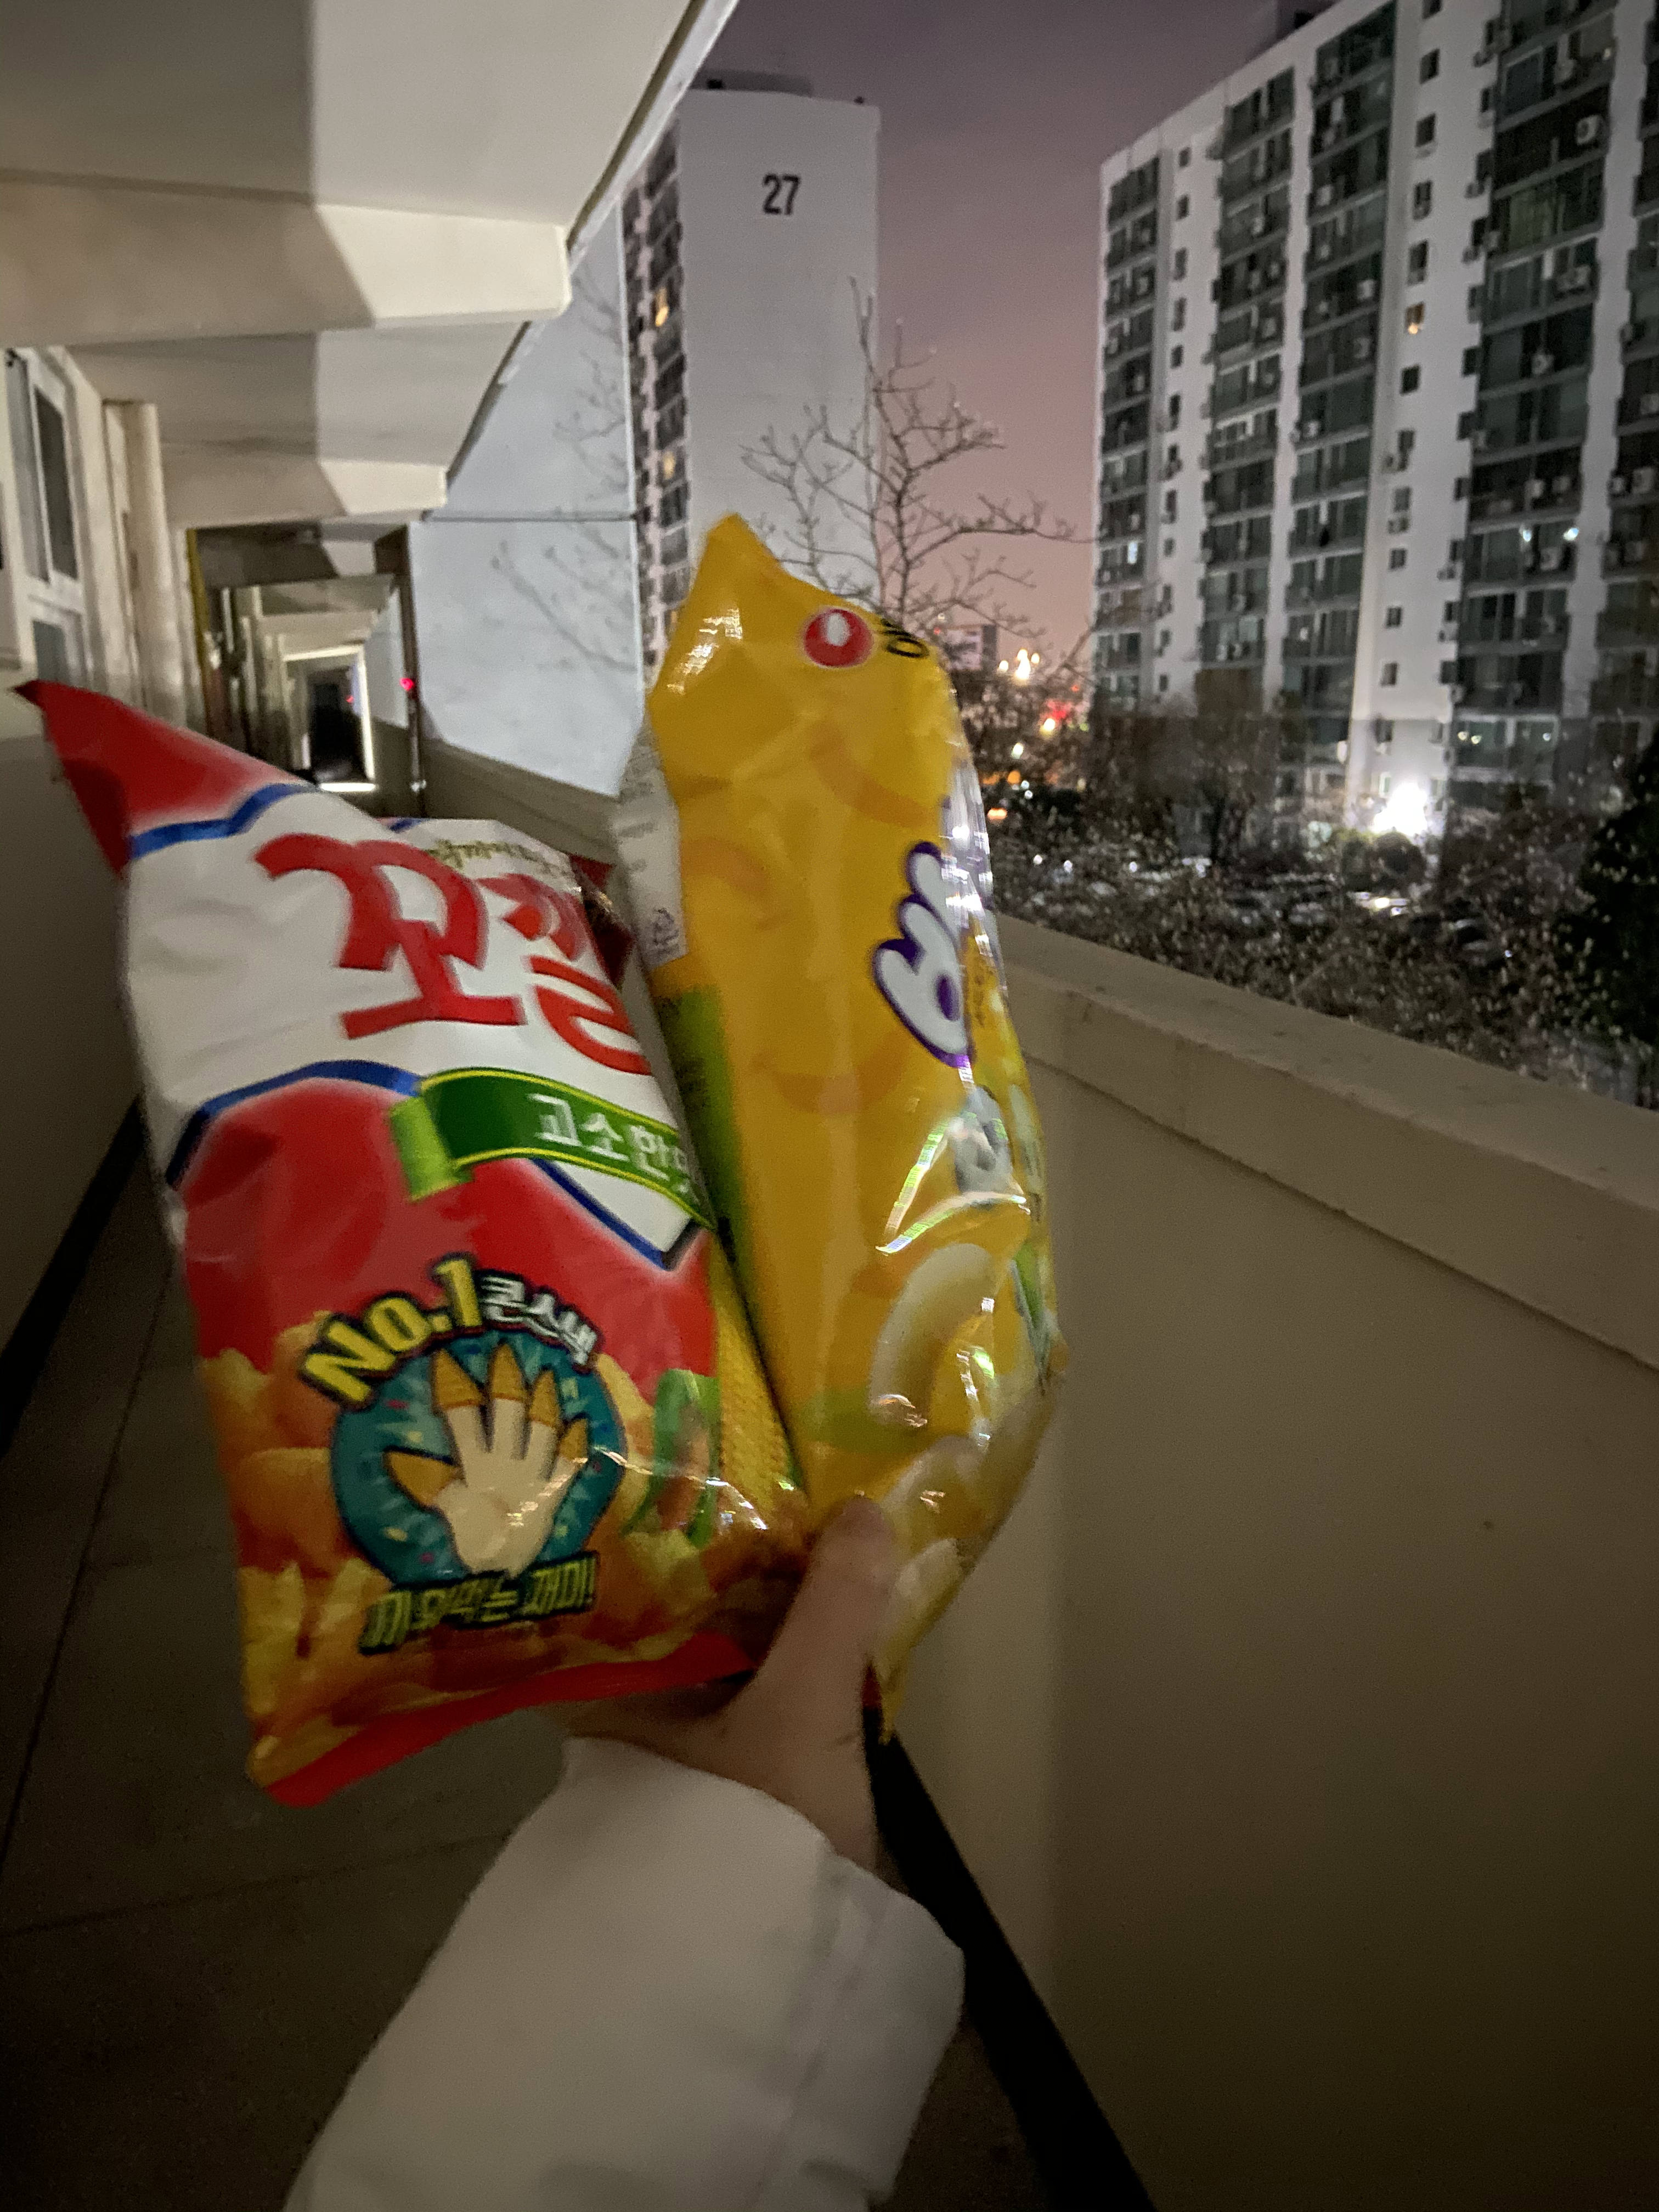banana: (608, 502, 1209, 1709)
ggoggalcon: (17, 653, 816, 1853)
